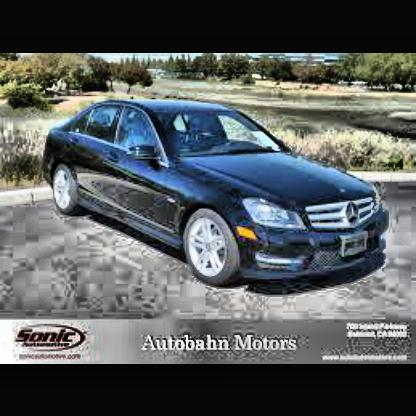Mercedes-Benz C-Class Sedan 2012: (38, 93, 394, 293)
